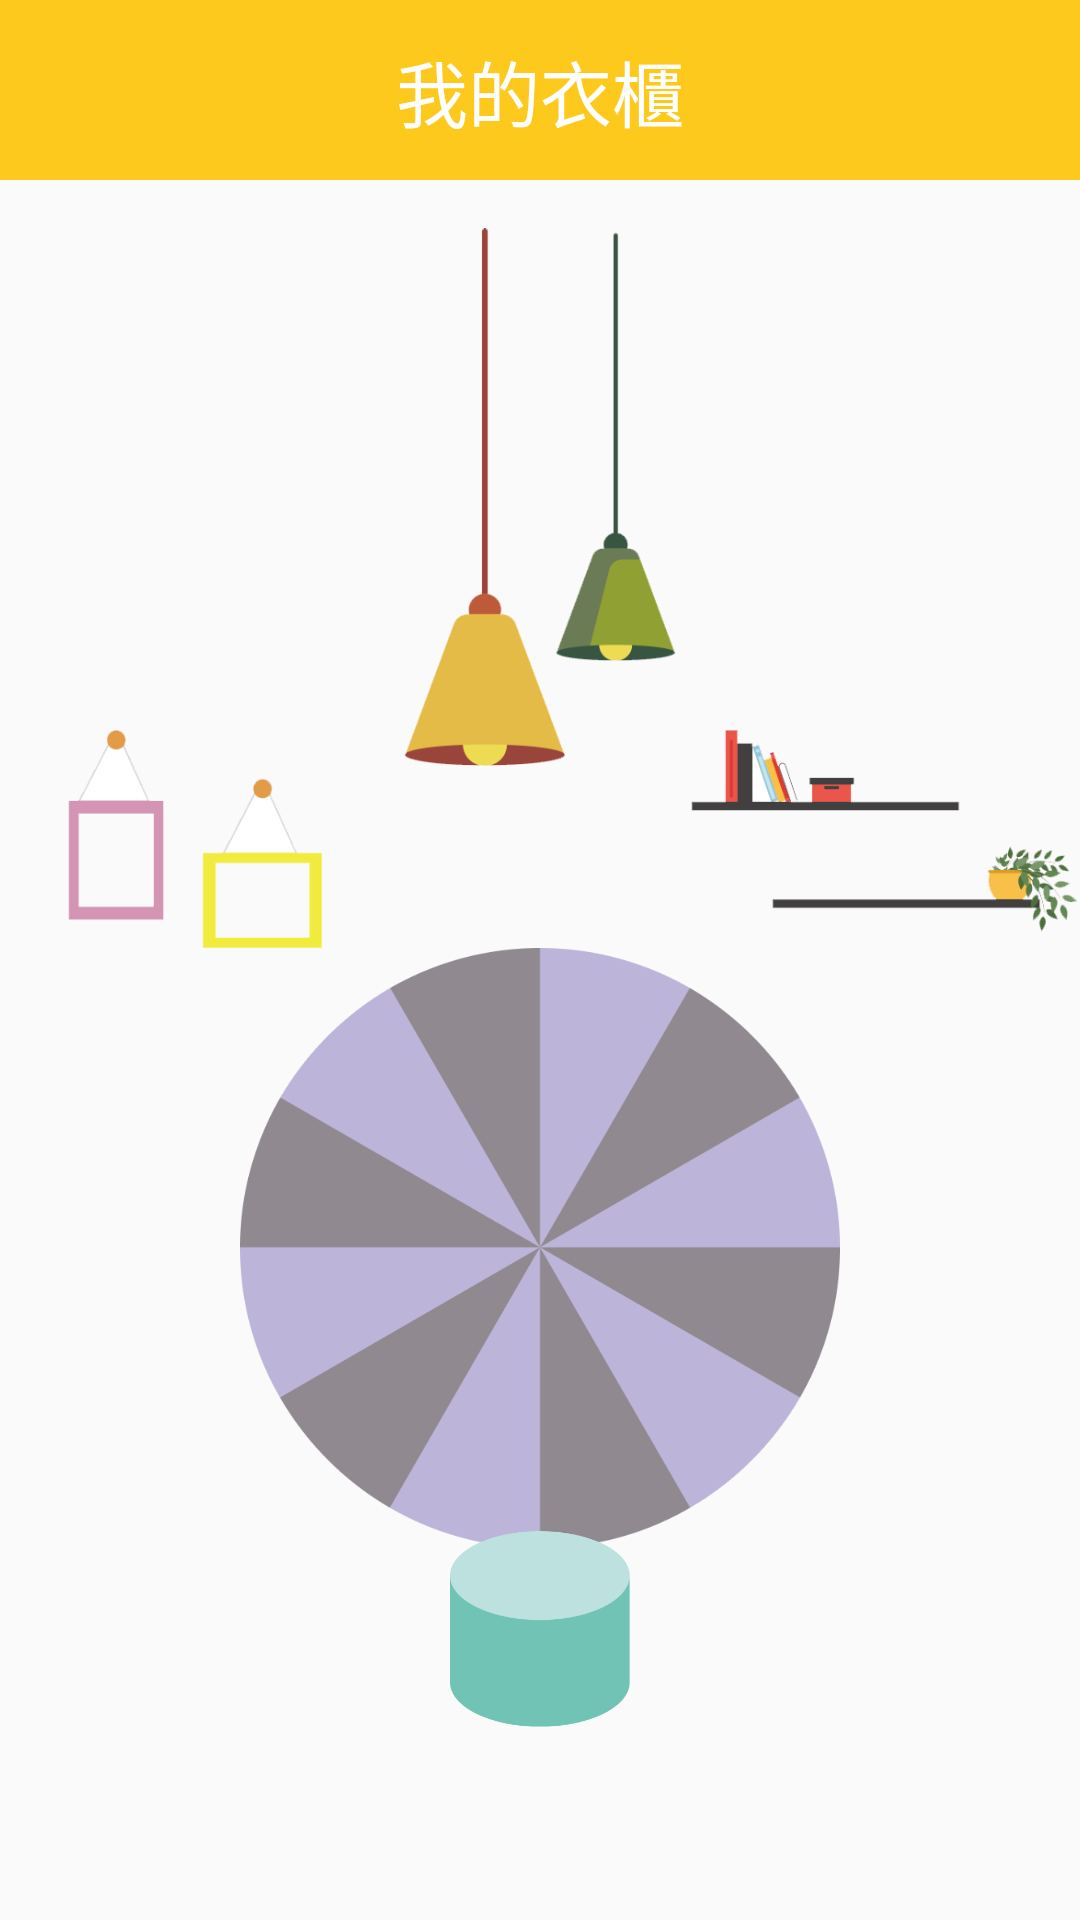

Named icons in this screenshot (1080*1920) and their centers, [x,y]:
closet cylinder: [540,1628]
